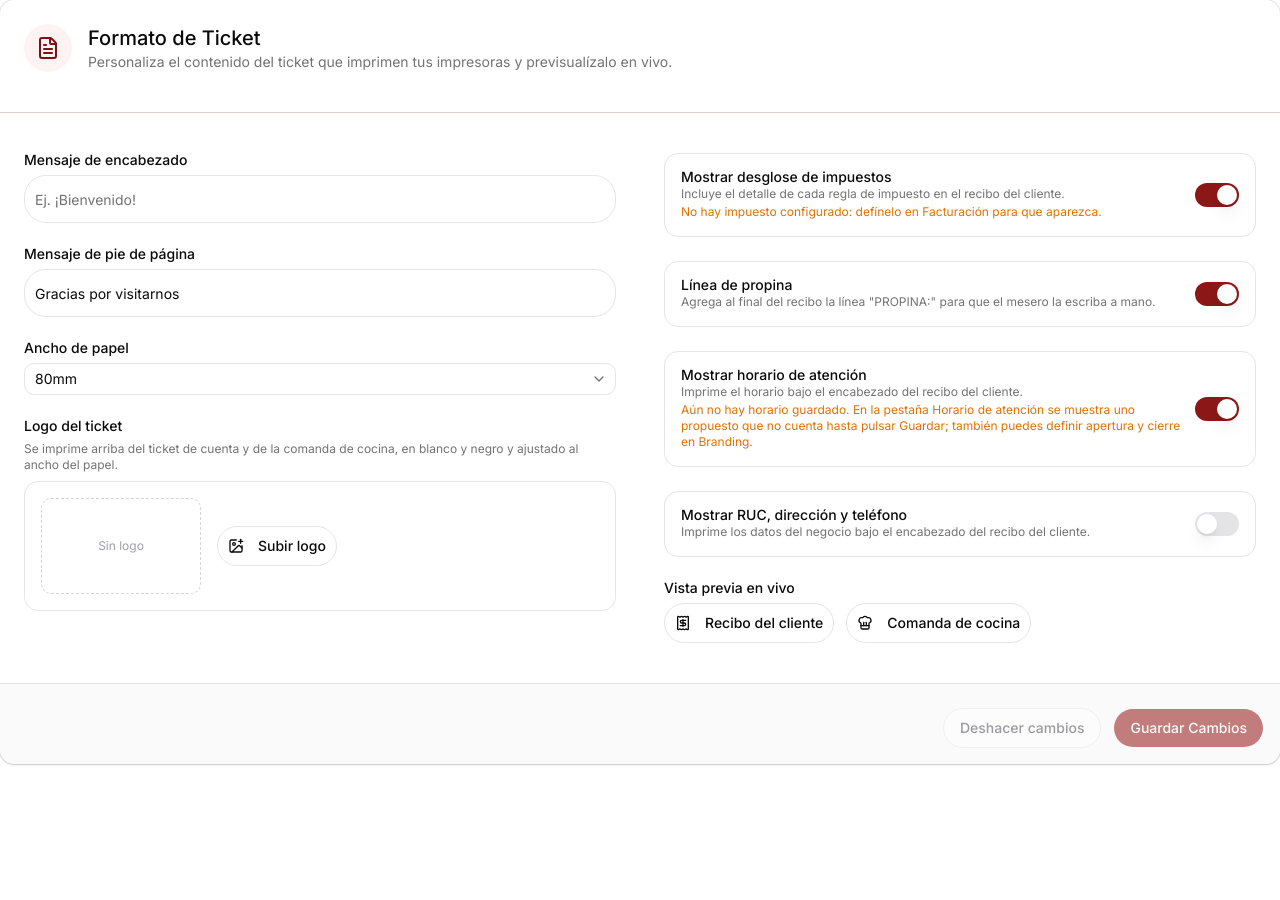
Test: TicketSettings preview: tax, hours and the tip line › with nothing configured, the active options say what is missing instead of vanishing
Click the button "Recibo del cliente".
click(749, 623)  # box [664,603,834,643]
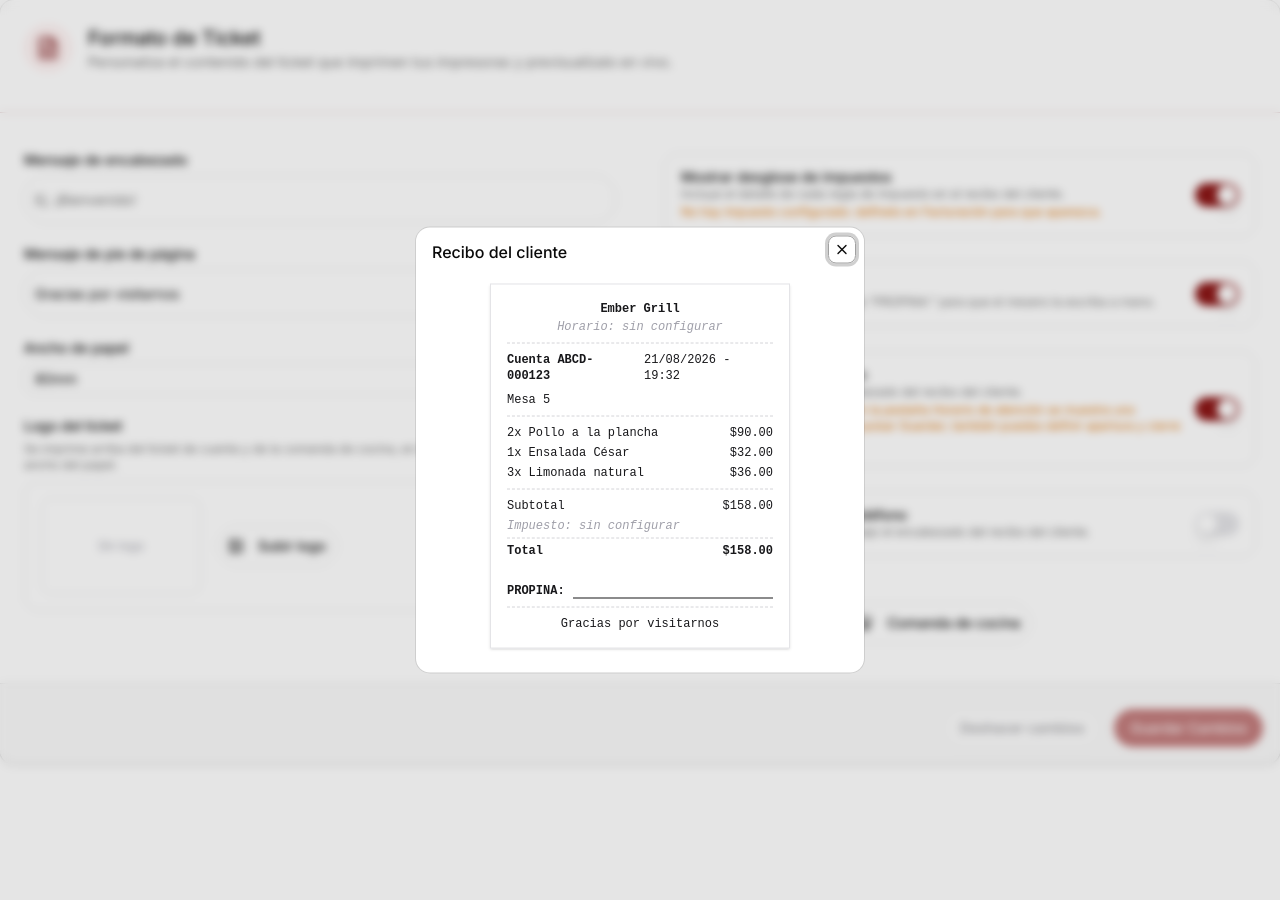
Now the text "Horario: sin configurar" is shown, box [557,320,723,334]
Now the text "Impuesto: sin configurar" is shown, box [507,518,680,532]
